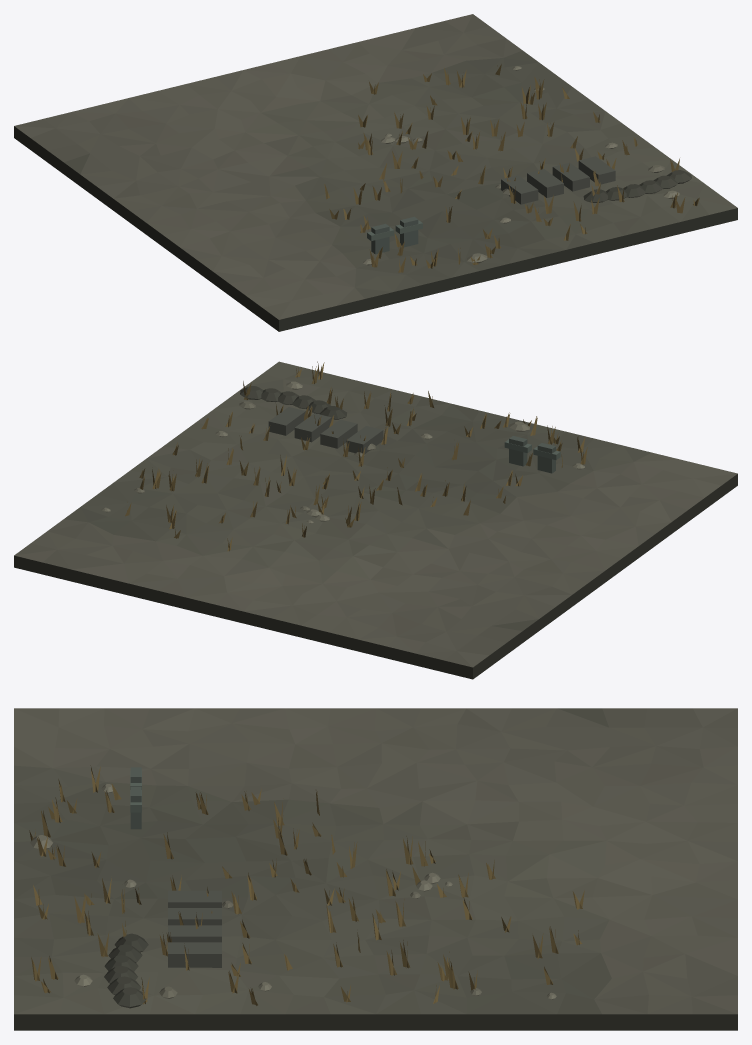
Rendered from CHUNK_oath_battlefield__supply_trenches__11.glb.
The picture shows the model from 3 angles, top to bottom: view 1: azimuth 30°, elevation 25°; view 2: azimuth 150°, elevation 25°; view 3: azimuth 270°, elevation 25°; orthographic projection. The views are drawn at different scales.
Parts seen in each view (by area): view 1: CHUNK_oath_battlefield__supply_trenches__11; view 2: CHUNK_oath_battlefield__supply_trenches__11; view 3: CHUNK_oath_battlefield__supply_trenches__11.
Boxes of the visible parts, x1=… form: CHUNK_oath_battlefield__supply_trenches__11: x1=14, y1=14, x2=737, y2=331; CHUNK_oath_battlefield__supply_trenches__11: x1=14, y1=361, x2=737, y2=679; CHUNK_oath_battlefield__supply_trenches__11: x1=14, y1=708, x2=737, y2=1030.
Bounding box in the file's own units: 8 × 0.61 × 8.
